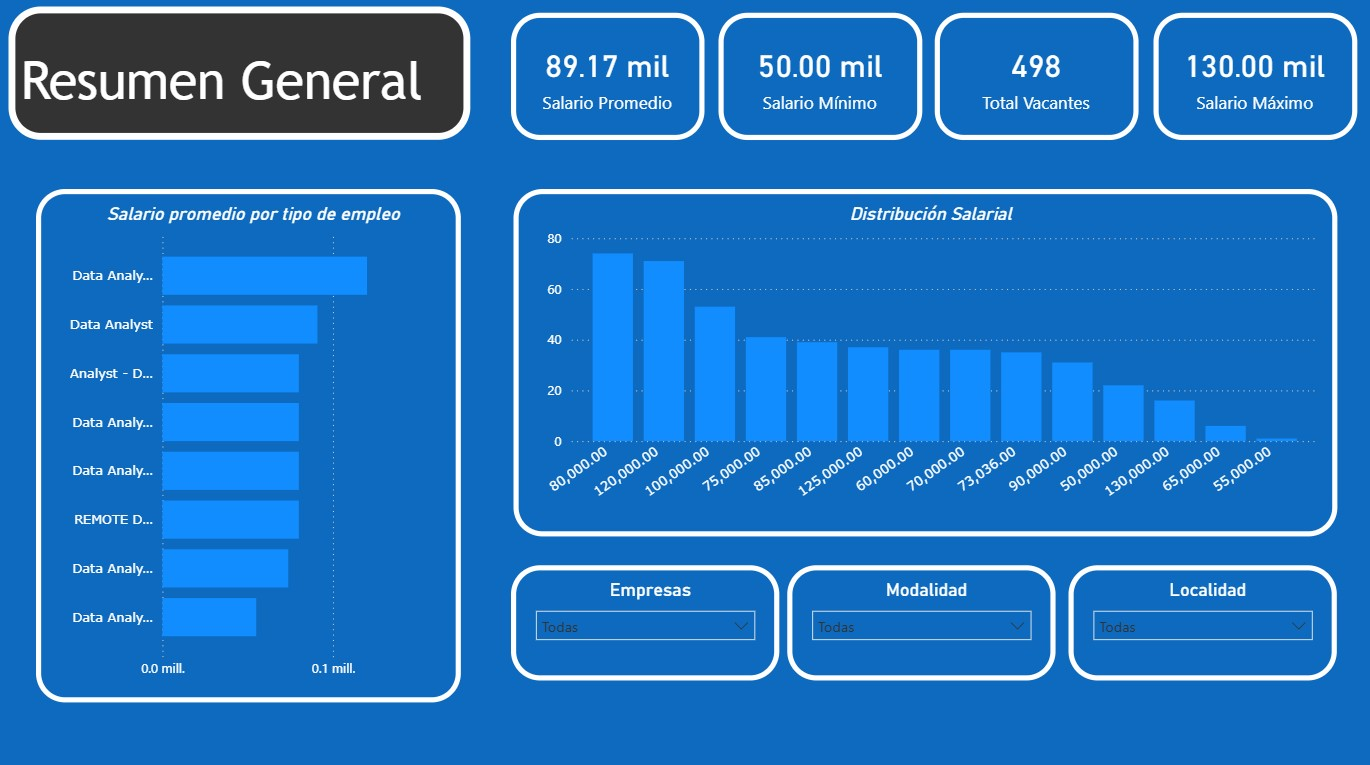

What the dashboard file says about the page in this screenshot:
{"tool":"powerbi","page":{"name":"RG","canvas":[1280,720],"ordinal":0},"visuals":[{"type":"textbox","box":[11.6,11.6,429.8,124.3],"z":0},{"type":"card","fields":{"Values":["jobs.Salario Promedio"]},"box":[478.5,17.4,180,118.5],"z":1000},{"type":"card","fields":{"Values":["jobs.Total Vacantes"]},"box":[873.5,17.4,189.3,118.5],"z":2000},{"type":"card","fields":{"Values":["jobs.Salario Mínimo"]},"box":[672.5,17.4,189.3,118.5],"z":3000},{"type":"card","fields":{"Values":["jobs.Salario Máximo"]},"box":[1076.7,17.4,189.3,118.5],"z":4000},{"type":"columnChart","title":"Distribución Salarial","fields":{"Category":["jobs.salary_num"],"Y":["CountNonNull(jobs.salary_groups)"]},"box":[480.9,181.2,766.6,322.9],"z":5000},{"type":"clusteredBarChart","title":"Salario promedio por tipo de empleo","fields":{"Category":["jobs.title"],"Y":["jobs.Salario Promedio"]},"box":[37.2,181.2,394.9,477.4],"z":6000},{"type":"slicer","title":"Localidad","fields":{"Values":["jobs.location"]},"box":[997.7,532,249.7,106.9],"z":7000},{"type":"slicer","title":"Empresas","fields":{"Values":["jobs.company"]},"box":[478.5,532,249.7,106.9],"z":8000},{"type":"slicer","title":"Modalidad","fields":{"Values":["jobs.onsite_remote"]},"box":[736.4,532,249.7,106.9],"z":9000}]}

Visuals, with their boxes in screenshot pixels (x1, y1, x2, y2), scaled from the page's 1280x720 canvas onto the 1370x765 screenshot:
textbox: (12,12,472,144)
card - jobs.Salario Promedio: (512,18,705,144)
card - jobs.Total Vacantes: (935,18,1138,144)
card - jobs.Salario Mínimo: (720,18,922,144)
card - jobs.Salario Máximo: (1152,18,1355,144)
"Distribución Salarial" columnChart: (515,193,1335,536)
"Salario promedio por tipo de empleo" clusteredBarChart: (40,193,462,700)
"Localidad" slicer: (1068,565,1335,679)
"Empresas" slicer: (512,565,779,679)
"Modalidad" slicer: (788,565,1055,679)
